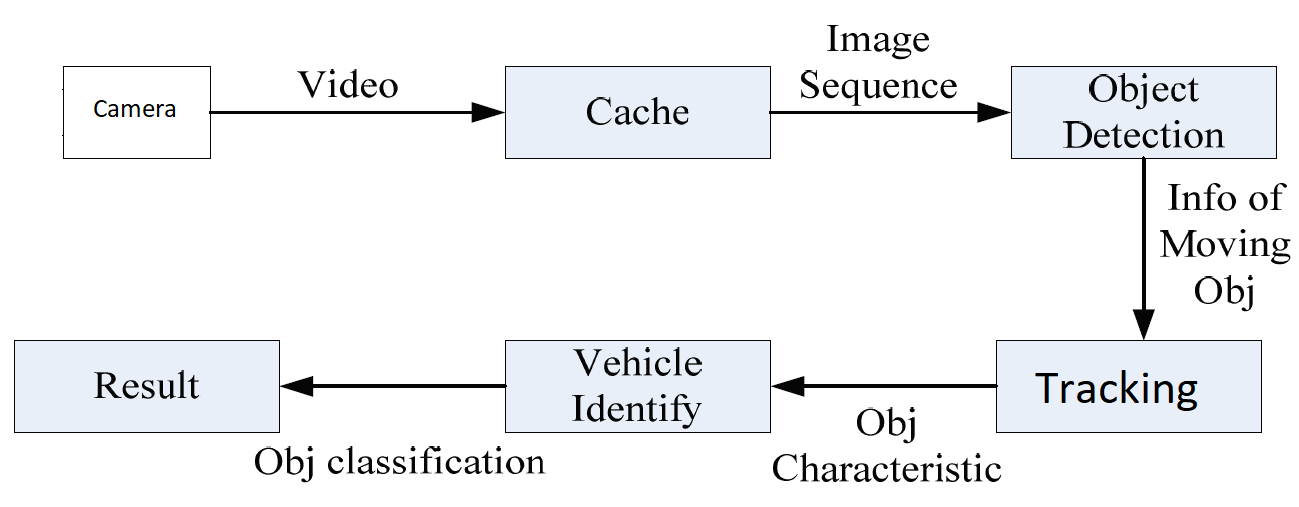arrow: (211, 101, 505, 127), (770, 375, 998, 401), (279, 374, 504, 400), (768, 101, 1012, 123), (1130, 154, 1157, 339)
process: (500, 334, 776, 438), (8, 335, 283, 438), (1007, 61, 1281, 162), (992, 335, 1265, 436), (500, 64, 776, 162), (57, 62, 214, 164)
text: (769, 403, 1000, 486), (1160, 175, 1294, 314), (799, 21, 960, 109), (1061, 69, 1229, 153), (252, 443, 548, 482), (569, 343, 704, 428), (1030, 367, 1200, 413), (89, 367, 201, 405), (578, 95, 691, 131), (294, 65, 401, 103), (90, 92, 179, 125)
